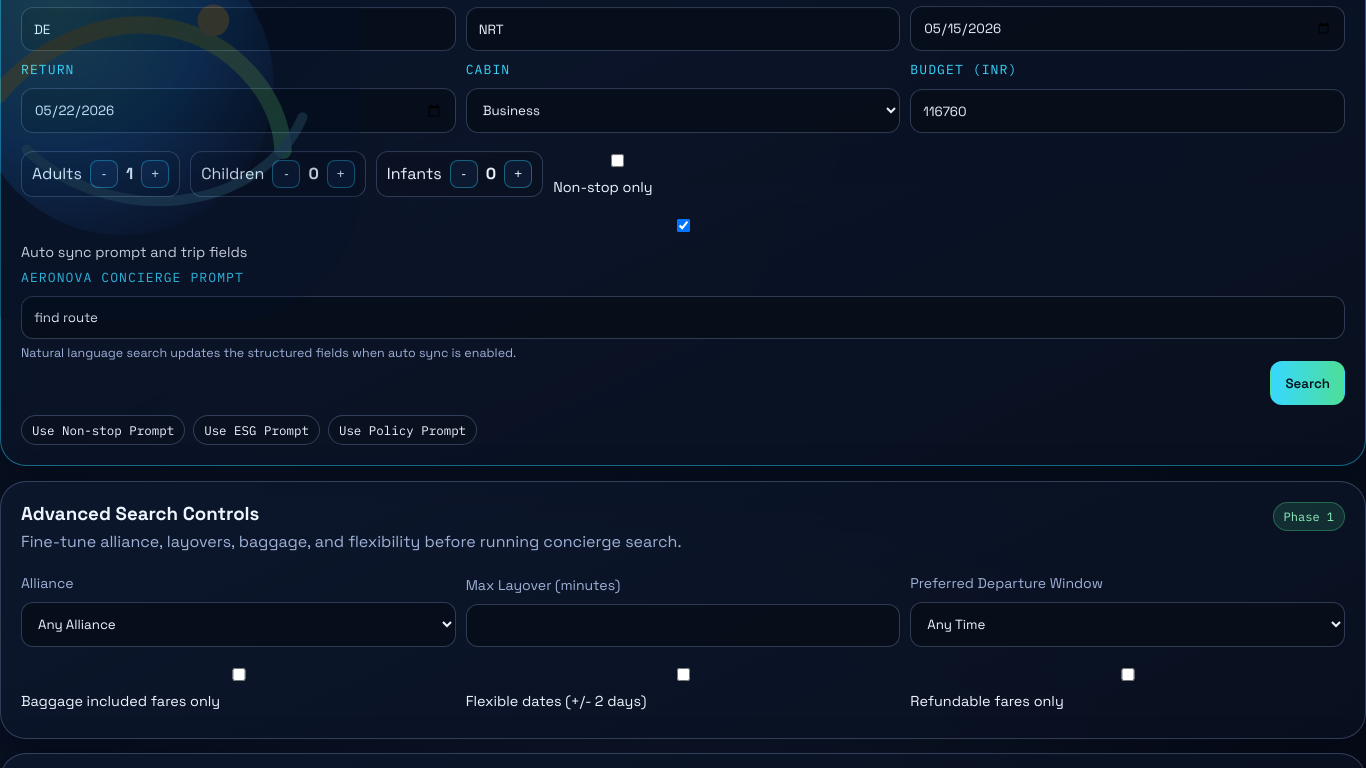
search page blocks invalid form and shows validation error
(page scrolled)
Click the button with aria-label "run concierge search" at (1308, 383), box [1270,361,1345,405]
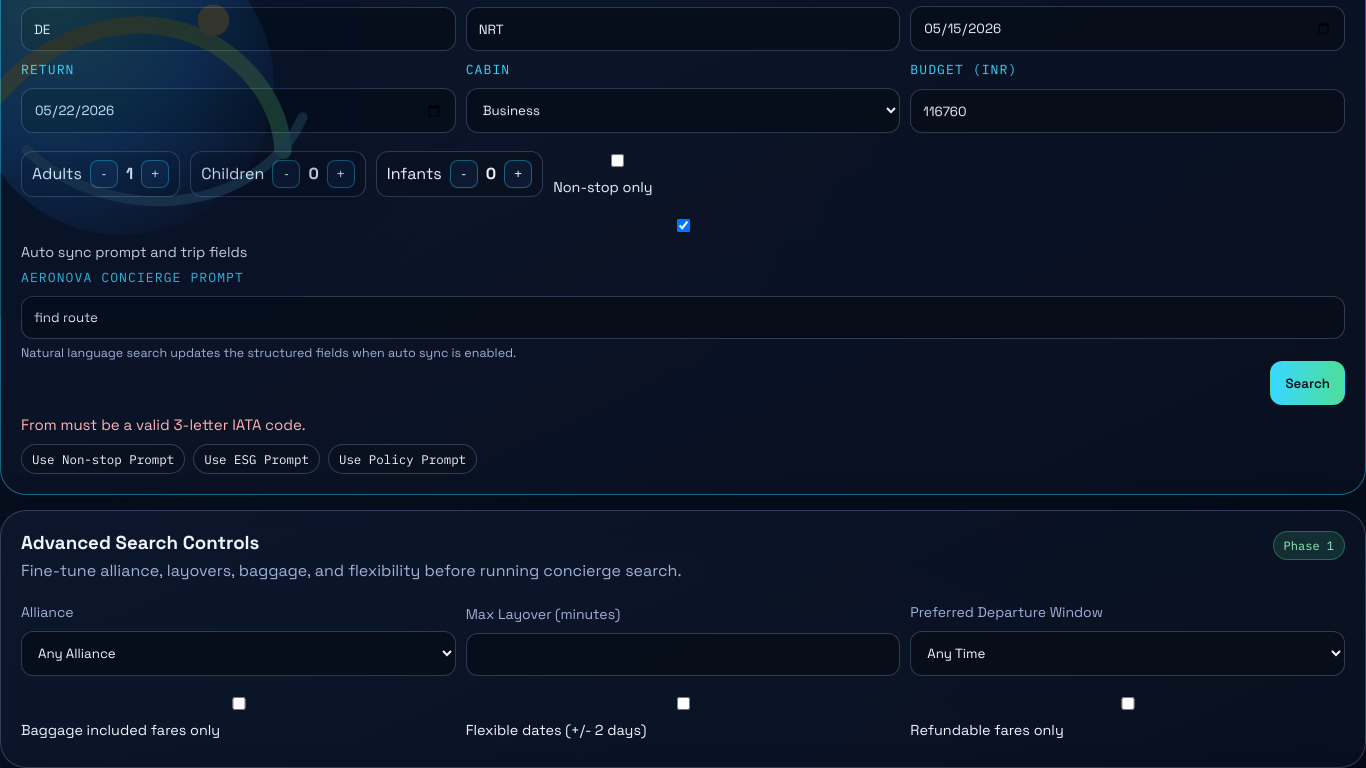
Now the message reads "From must be a valid 3-letter IATA code.", box [21,415,306,434]
